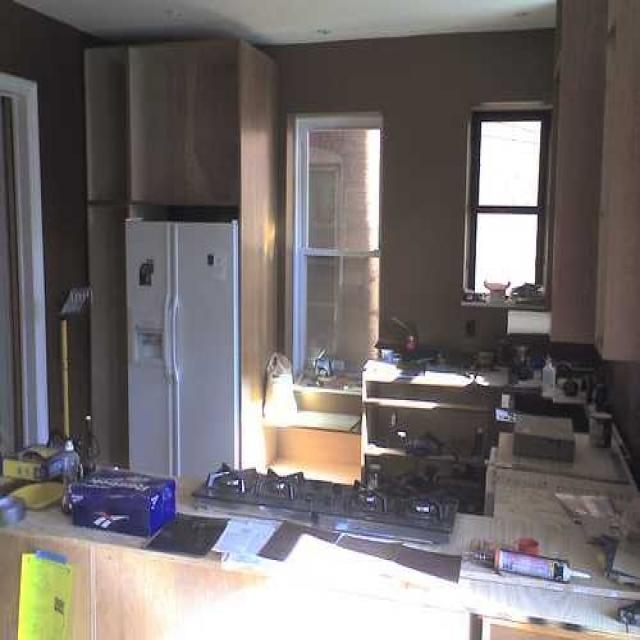refrigerator: (126, 217, 240, 483)
